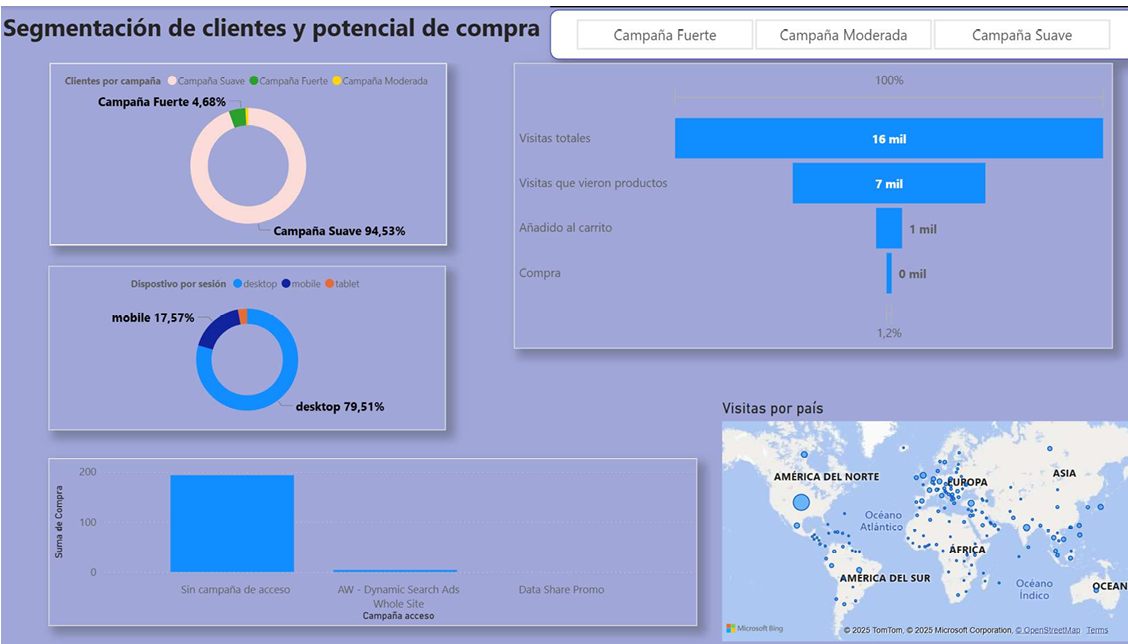

The dashboard page shown, as its layout file describes it:
{"tool":"powerbi","page":{"name":"Página 1","canvas":[1280,720],"ordinal":0},"visuals":[{"type":"donutChart","fields":{"Category":["Clientes.segmento_campaña"],"Y":["CountNonNull(Clientes.fullVisitorId)"]},"box":[57.4,63.7,447.5,205.3],"z":0},{"type":"donutChart","fields":{"Category":["Clientes.deviceCategory"],"Y":["CountNonNull(Clientes.fullVisitorId)"]},"box":[56.1,292,447.5,184.9],"z":1000},{"type":"azureMap","title":"Visitas por país","fields":{"Category":["Clientes.country"],"Size":["CountNonNull(Clientes.fullVisitorId)"]},"box":[657.5,397.5,623.8,323.8],"z":2000},{"type":"textbox","box":[0,0,620.8,63.7],"z":3000},{"type":"slicer","fields":{"Values":["Clientes.segmento_campaña"]},"box":[620.8,3.7,659.2,56.2],"z":4000},{"type":"columnChart","fields":{"Category":["Clientes.trafficCampaign"],"Y":["Sum(Clientes.Compra)"]},"box":[56.2,508.8,583.8,170],"z":6000},{"type":"funnel","fields":{"Y":["Sum(Clientes.Visita)","Sum(Clientes.Visita producto)","Sum(Clientes.Añadido al carrito)","Sum(Clientes.Compra)"]},"box":[580.1,63.7,674.4,321.3],"z":7000}]}

Visuals, with their boxes in screenshot pixels (x1, y1, x2, y2), scaled from the page's 1280x720 canvas onto the 1128x644 screenshot:
donutChart - Clientes.segmento_campaña x CountNonNull(Clientes.fullVisitorId): [left=51, top=57, right=445, bottom=241]
donutChart - Clientes.deviceCategory x CountNonNull(Clientes.fullVisitorId): [left=49, top=261, right=444, bottom=427]
"Visitas por país" azureMap: [left=579, top=356, right=1127, bottom=643]
textbox: [left=0, top=0, right=547, bottom=57]
slicer - Clientes.segmento_campaña: [left=547, top=3, right=1127, bottom=54]
columnChart - Clientes.trafficCampaign x Sum(Clientes.Compra): [left=50, top=455, right=564, bottom=607]
funnel - Sum(Clientes.Visita) x Sum(Clientes.Visita producto): [left=511, top=57, right=1106, bottom=344]
